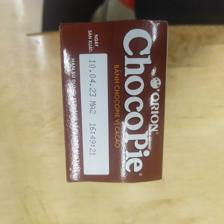Chocopie_cacao: (58, 19, 166, 185)
